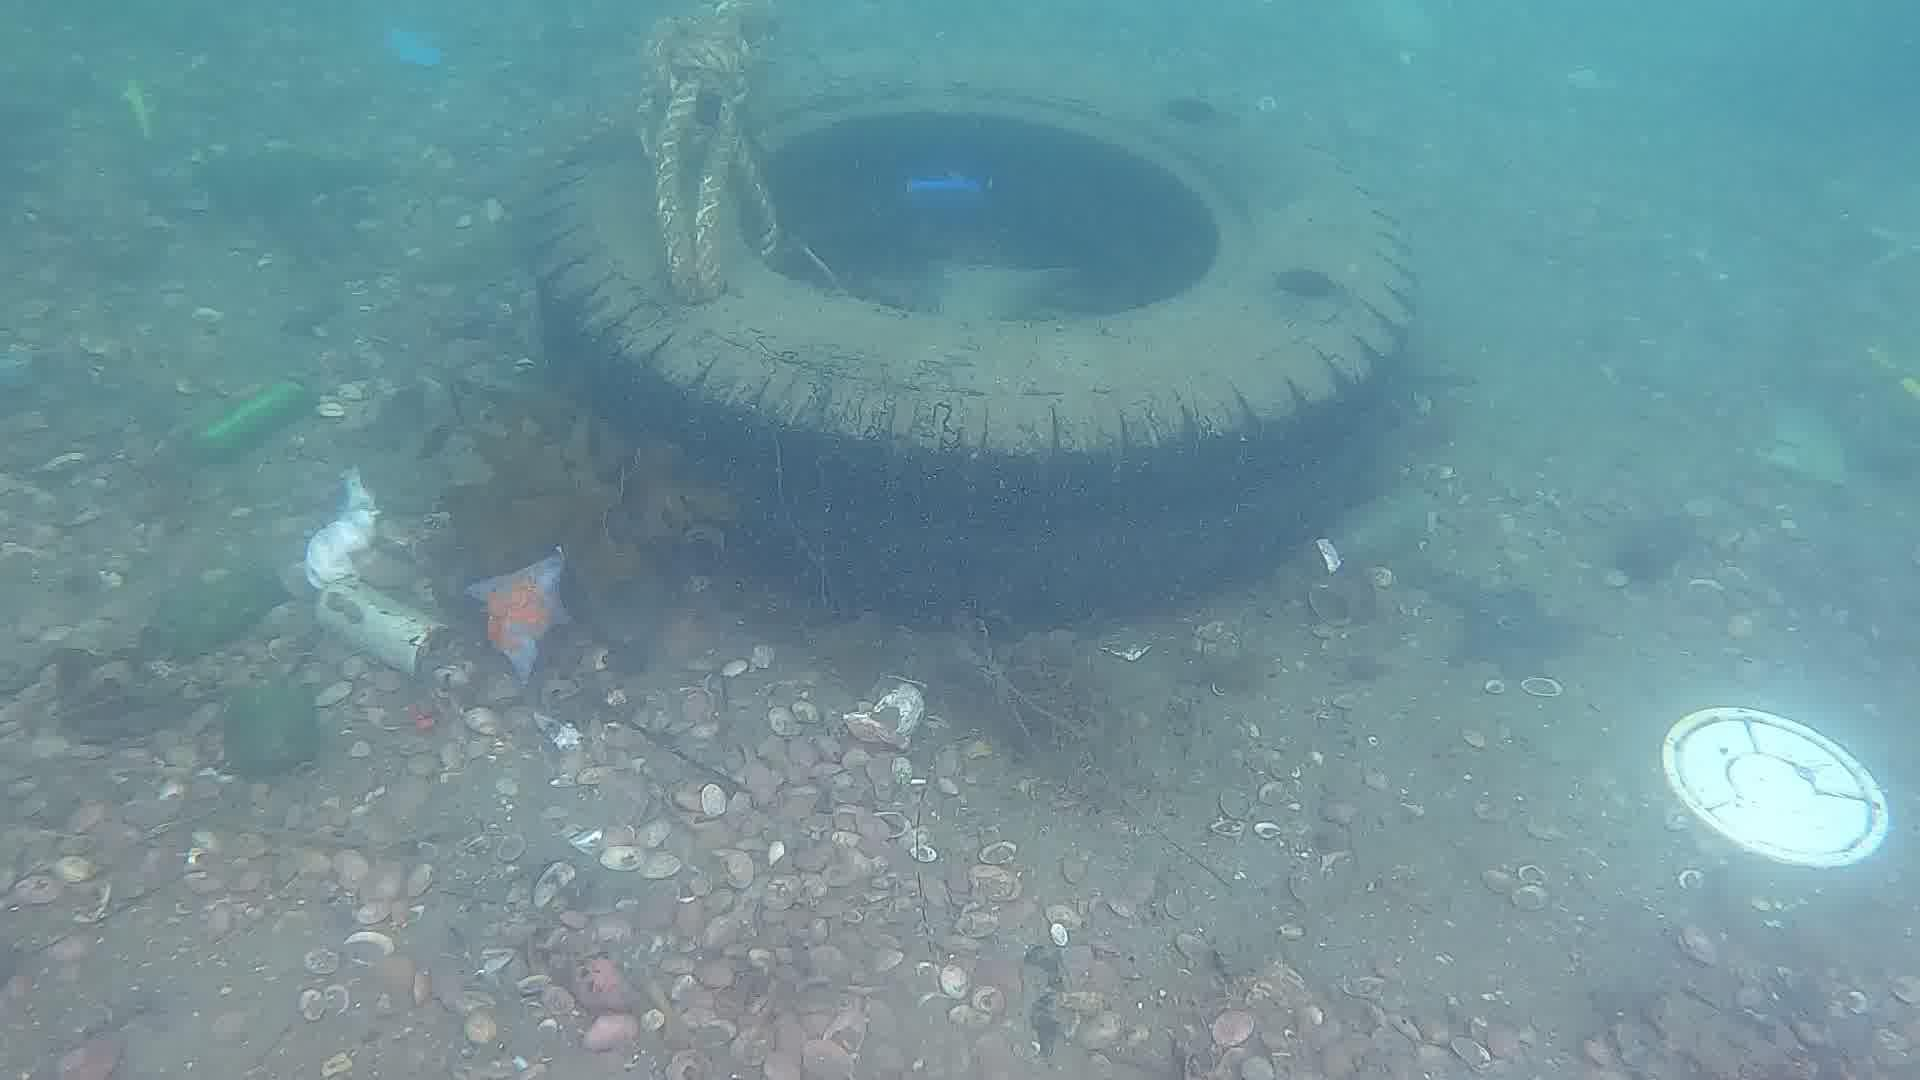bundle of ropes: (622, 0, 785, 306)
tire: (522, 42, 1415, 634)
